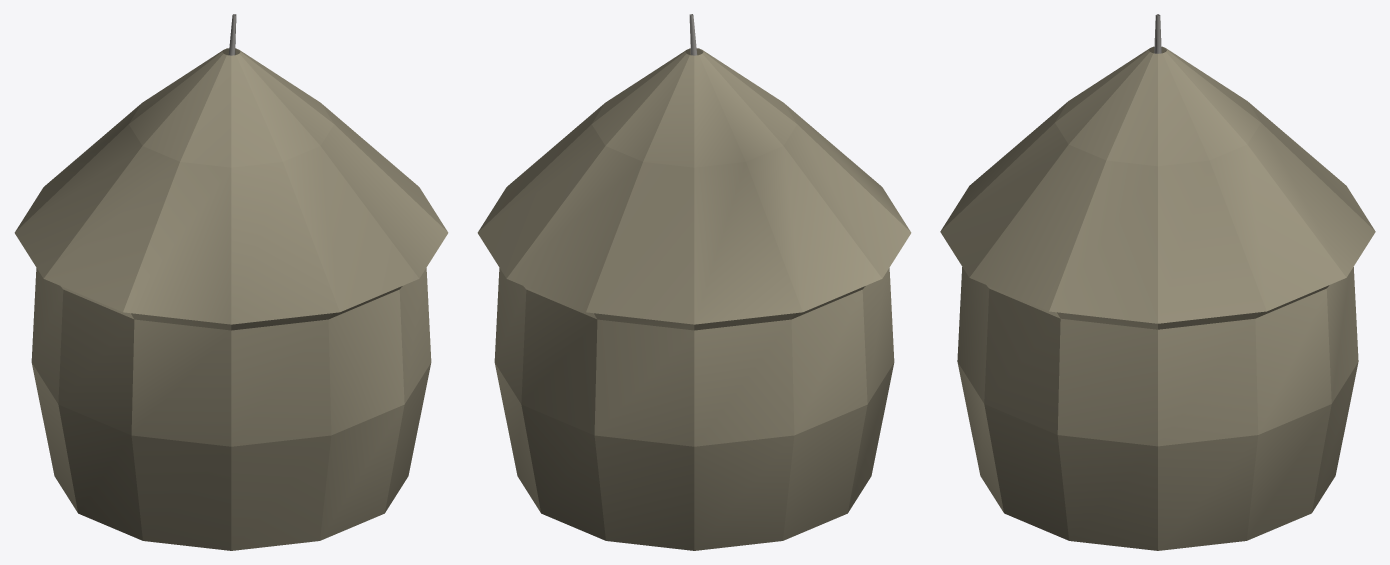
The model's file is prop_field_rick.glb.
3 views of the same model, side by side, from view 1: azimuth 30°, elevation 25°; view 2: azimuth 150°, elevation 25°; view 3: azimuth 270°, elevation 25° (orthographic).
Parts seen in each view (by area): view 1: Rick; view 2: Rick; view 3: Rick.
Boxes of the visible parts, x1=… form: Rick: x1=14, y1=14, x2=448, y2=550; Rick: x1=477, y1=14, x2=911, y2=550; Rick: x1=940, y1=14, x2=1375, y2=550.
Size of what is drawn, in the model's own units: 3.8 by 4.45 by 3.8.
